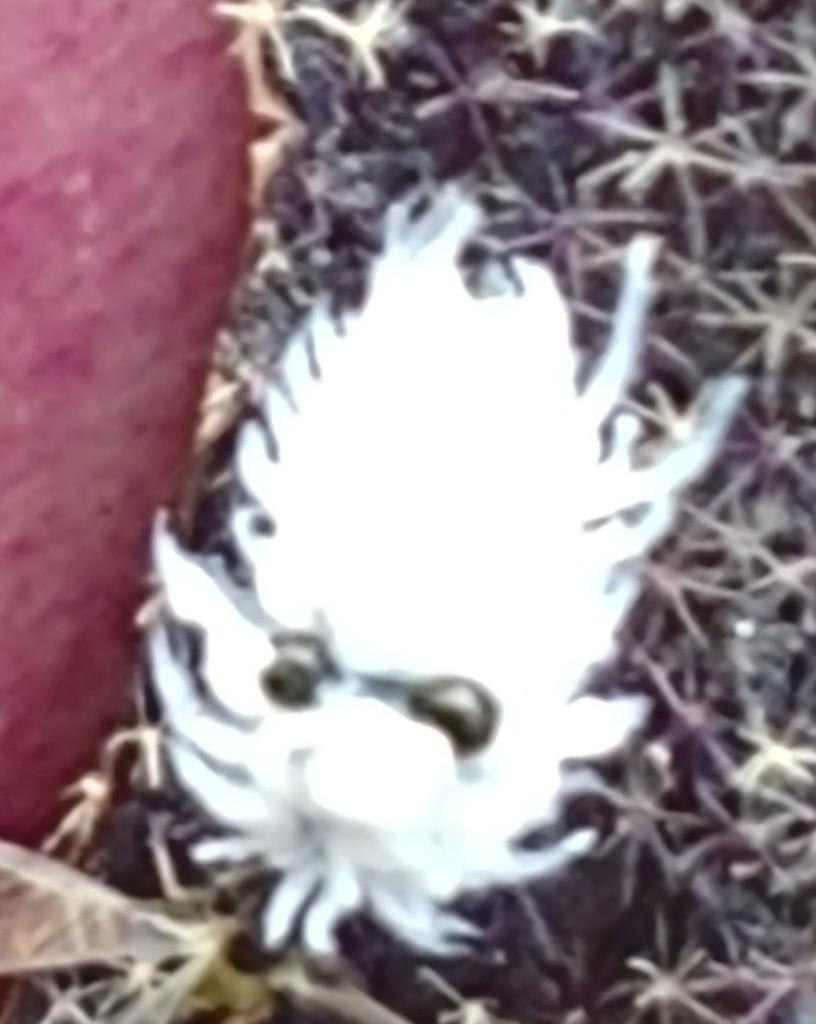ladybug: (131, 184, 756, 966)
